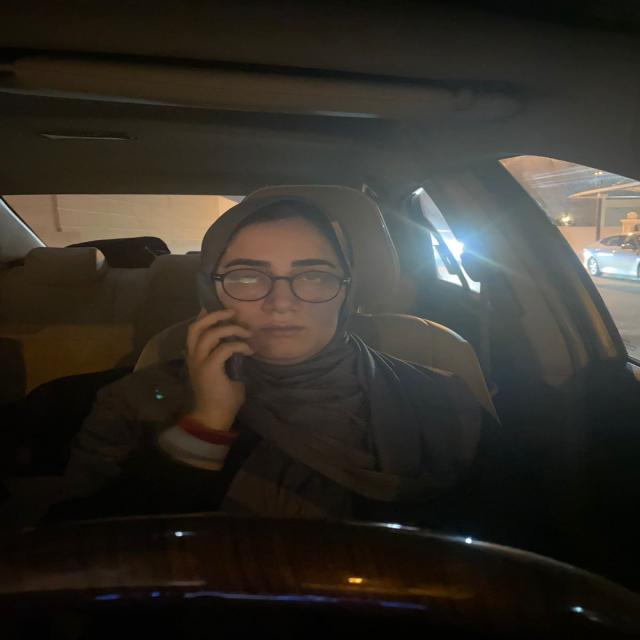mobile: (186, 268, 258, 386)
person: (220, 202, 344, 358)
